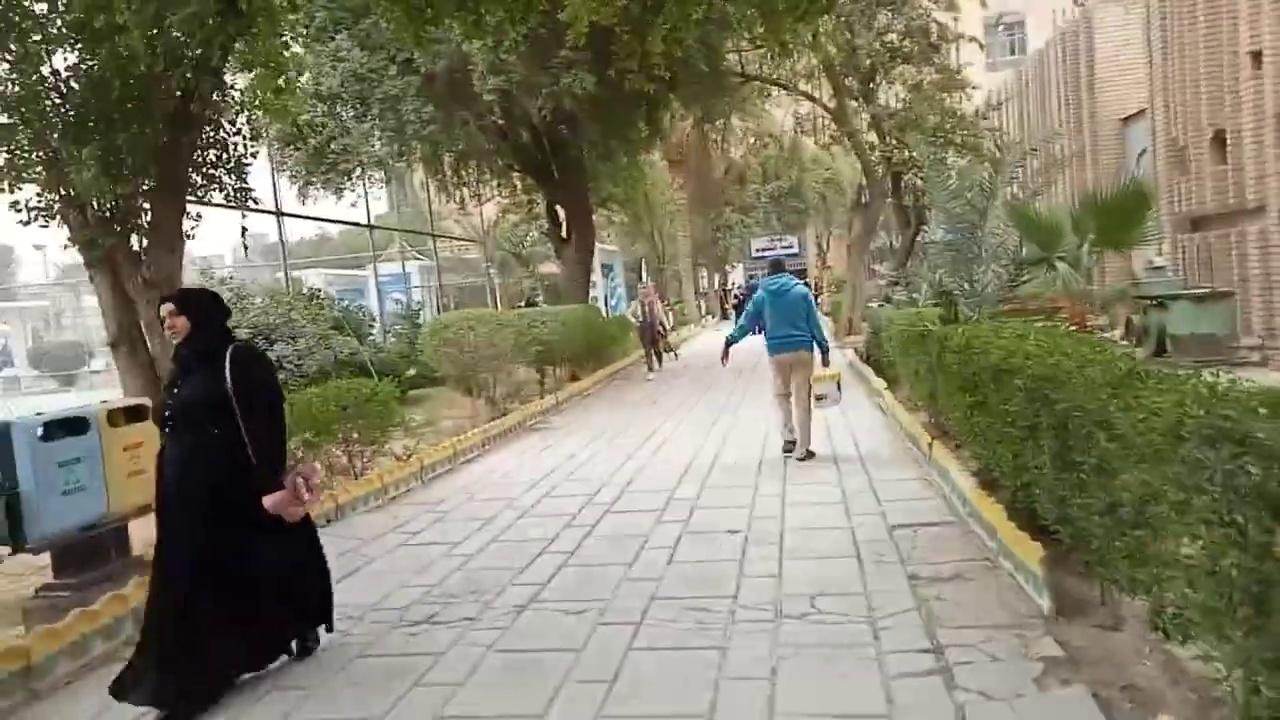person: (107, 285, 331, 719), (719, 256, 830, 460), (624, 281, 670, 380)
tree: (3, 0, 1136, 468), (0, 0, 311, 428), (369, 0, 738, 309), (715, 0, 998, 344), (1001, 155, 1164, 330), (743, 130, 847, 310), (1068, 172, 1162, 318)
